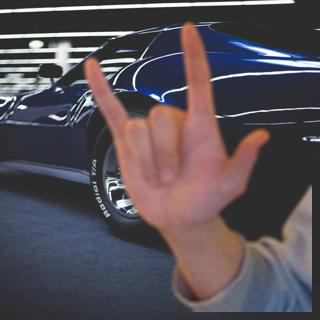ILY: (78, 14, 273, 230)
